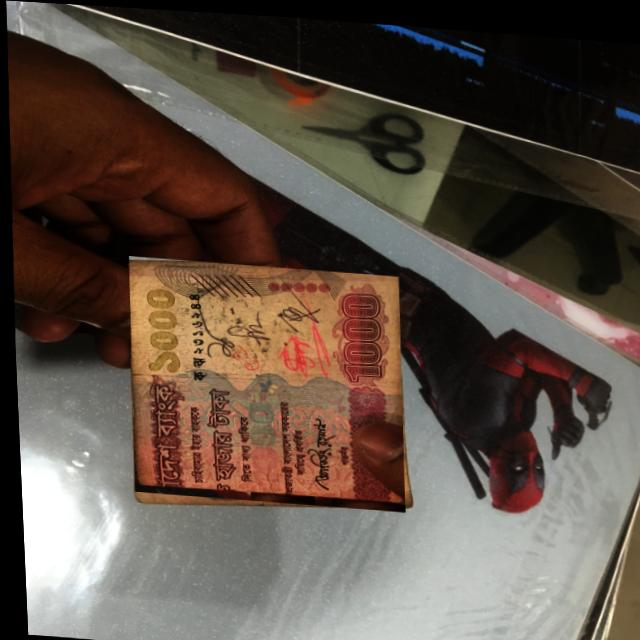Taka: (122, 254, 404, 508)
